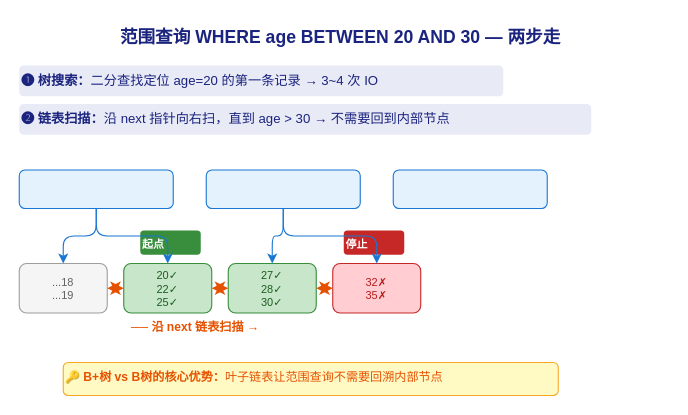
This 688x415 diagram has some shape labels left out. Each missing label, with the centre of its shape:
"age idx: 10~25" goes at point 95,188.
"age idx: 26~35" goes at point 282,188.
"age idx: 36~50" goes at point 469,188.
